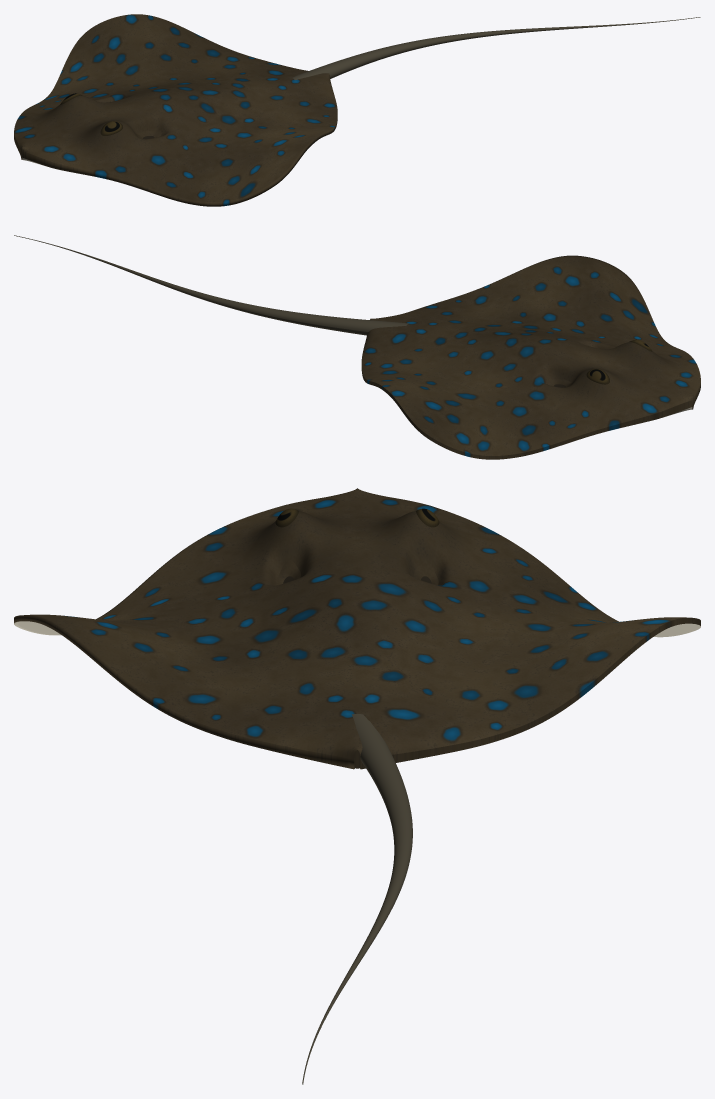
The model's file is stingray-review.glb.
3 views of the same model, one above another, from view 1: azimuth 30°, elevation 25°; view 2: azimuth 150°, elevation 25°; view 3: azimuth 270°, elevation 25° (orthographic). The views are drawn at different scales.
Visible parts, largest first — view 1: Maskray_ContinuousDisc, Maskray_TaperedWhipTail; view 2: Maskray_ContinuousDisc, Maskray_TaperedWhipTail; view 3: Maskray_ContinuousDisc, Maskray_TaperedWhipTail.
Boxes of the visible parts, box(x1,y1,x2,y2) form: Maskray_ContinuousDisc: box(14, 14, 337, 206); Maskray_TaperedWhipTail: box(292, 17, 700, 80); Maskray_ContinuousDisc: box(361, 255, 700, 459); Maskray_TaperedWhipTail: box(14, 235, 409, 335); Maskray_ContinuousDisc: box(14, 488, 700, 769); Maskray_TaperedWhipTail: box(302, 714, 412, 1084).
Size of the model in its own units: 4.83 by 0.3605 by 2.49.
5 materials, 2 textured.
